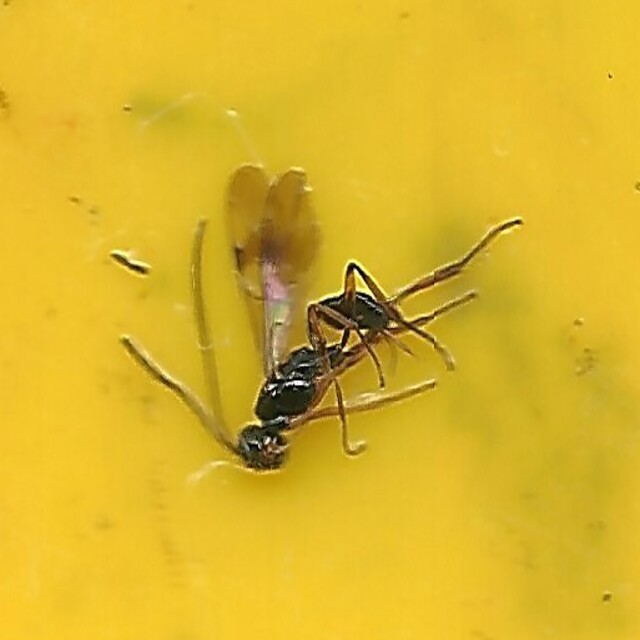Hymenoptera: (125, 159, 515, 481)
